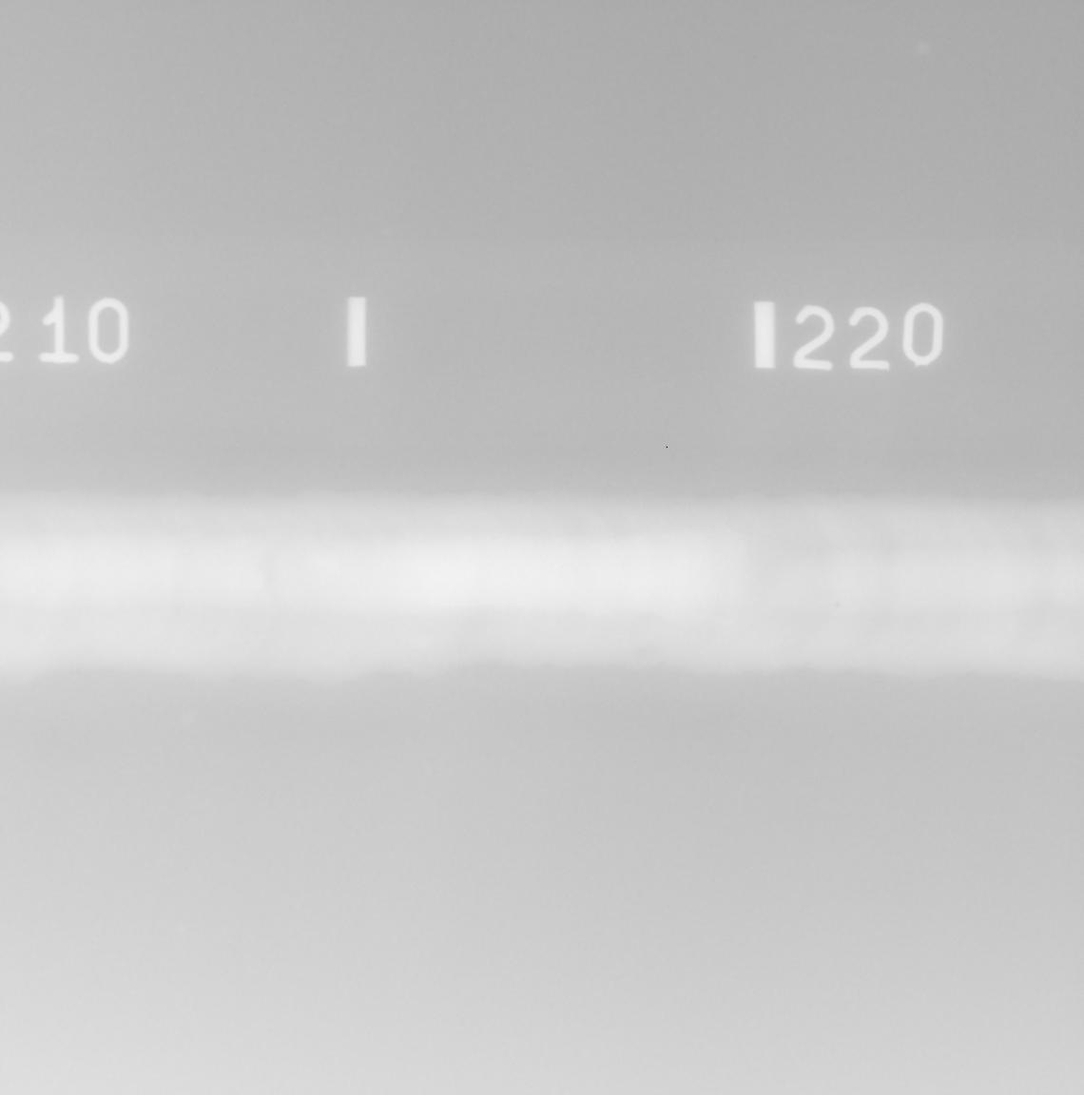Pore/Porosity: (834, 601, 840, 609)
